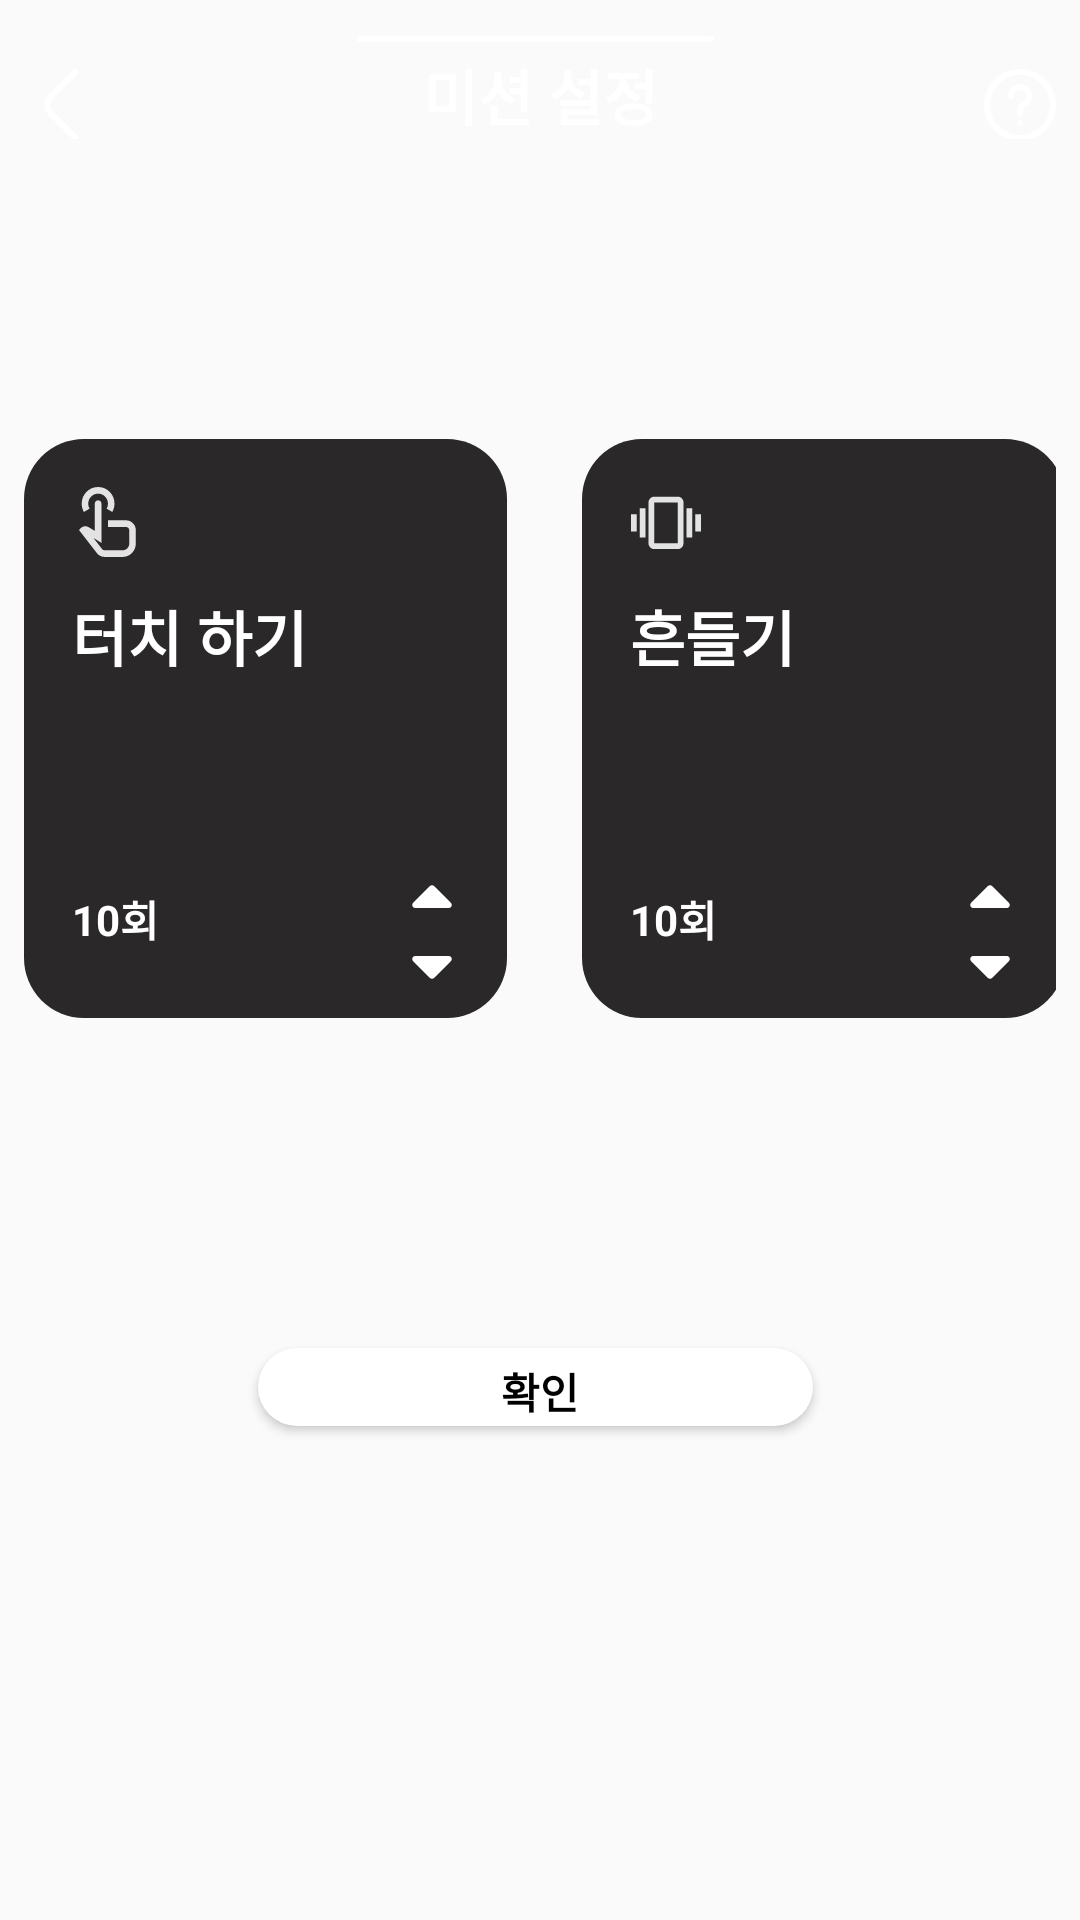

Point at icon controls on the screen. Image size 1080 x 1920, points as point (x, y).
shake: point (666, 522)
touch: point (107, 522)
